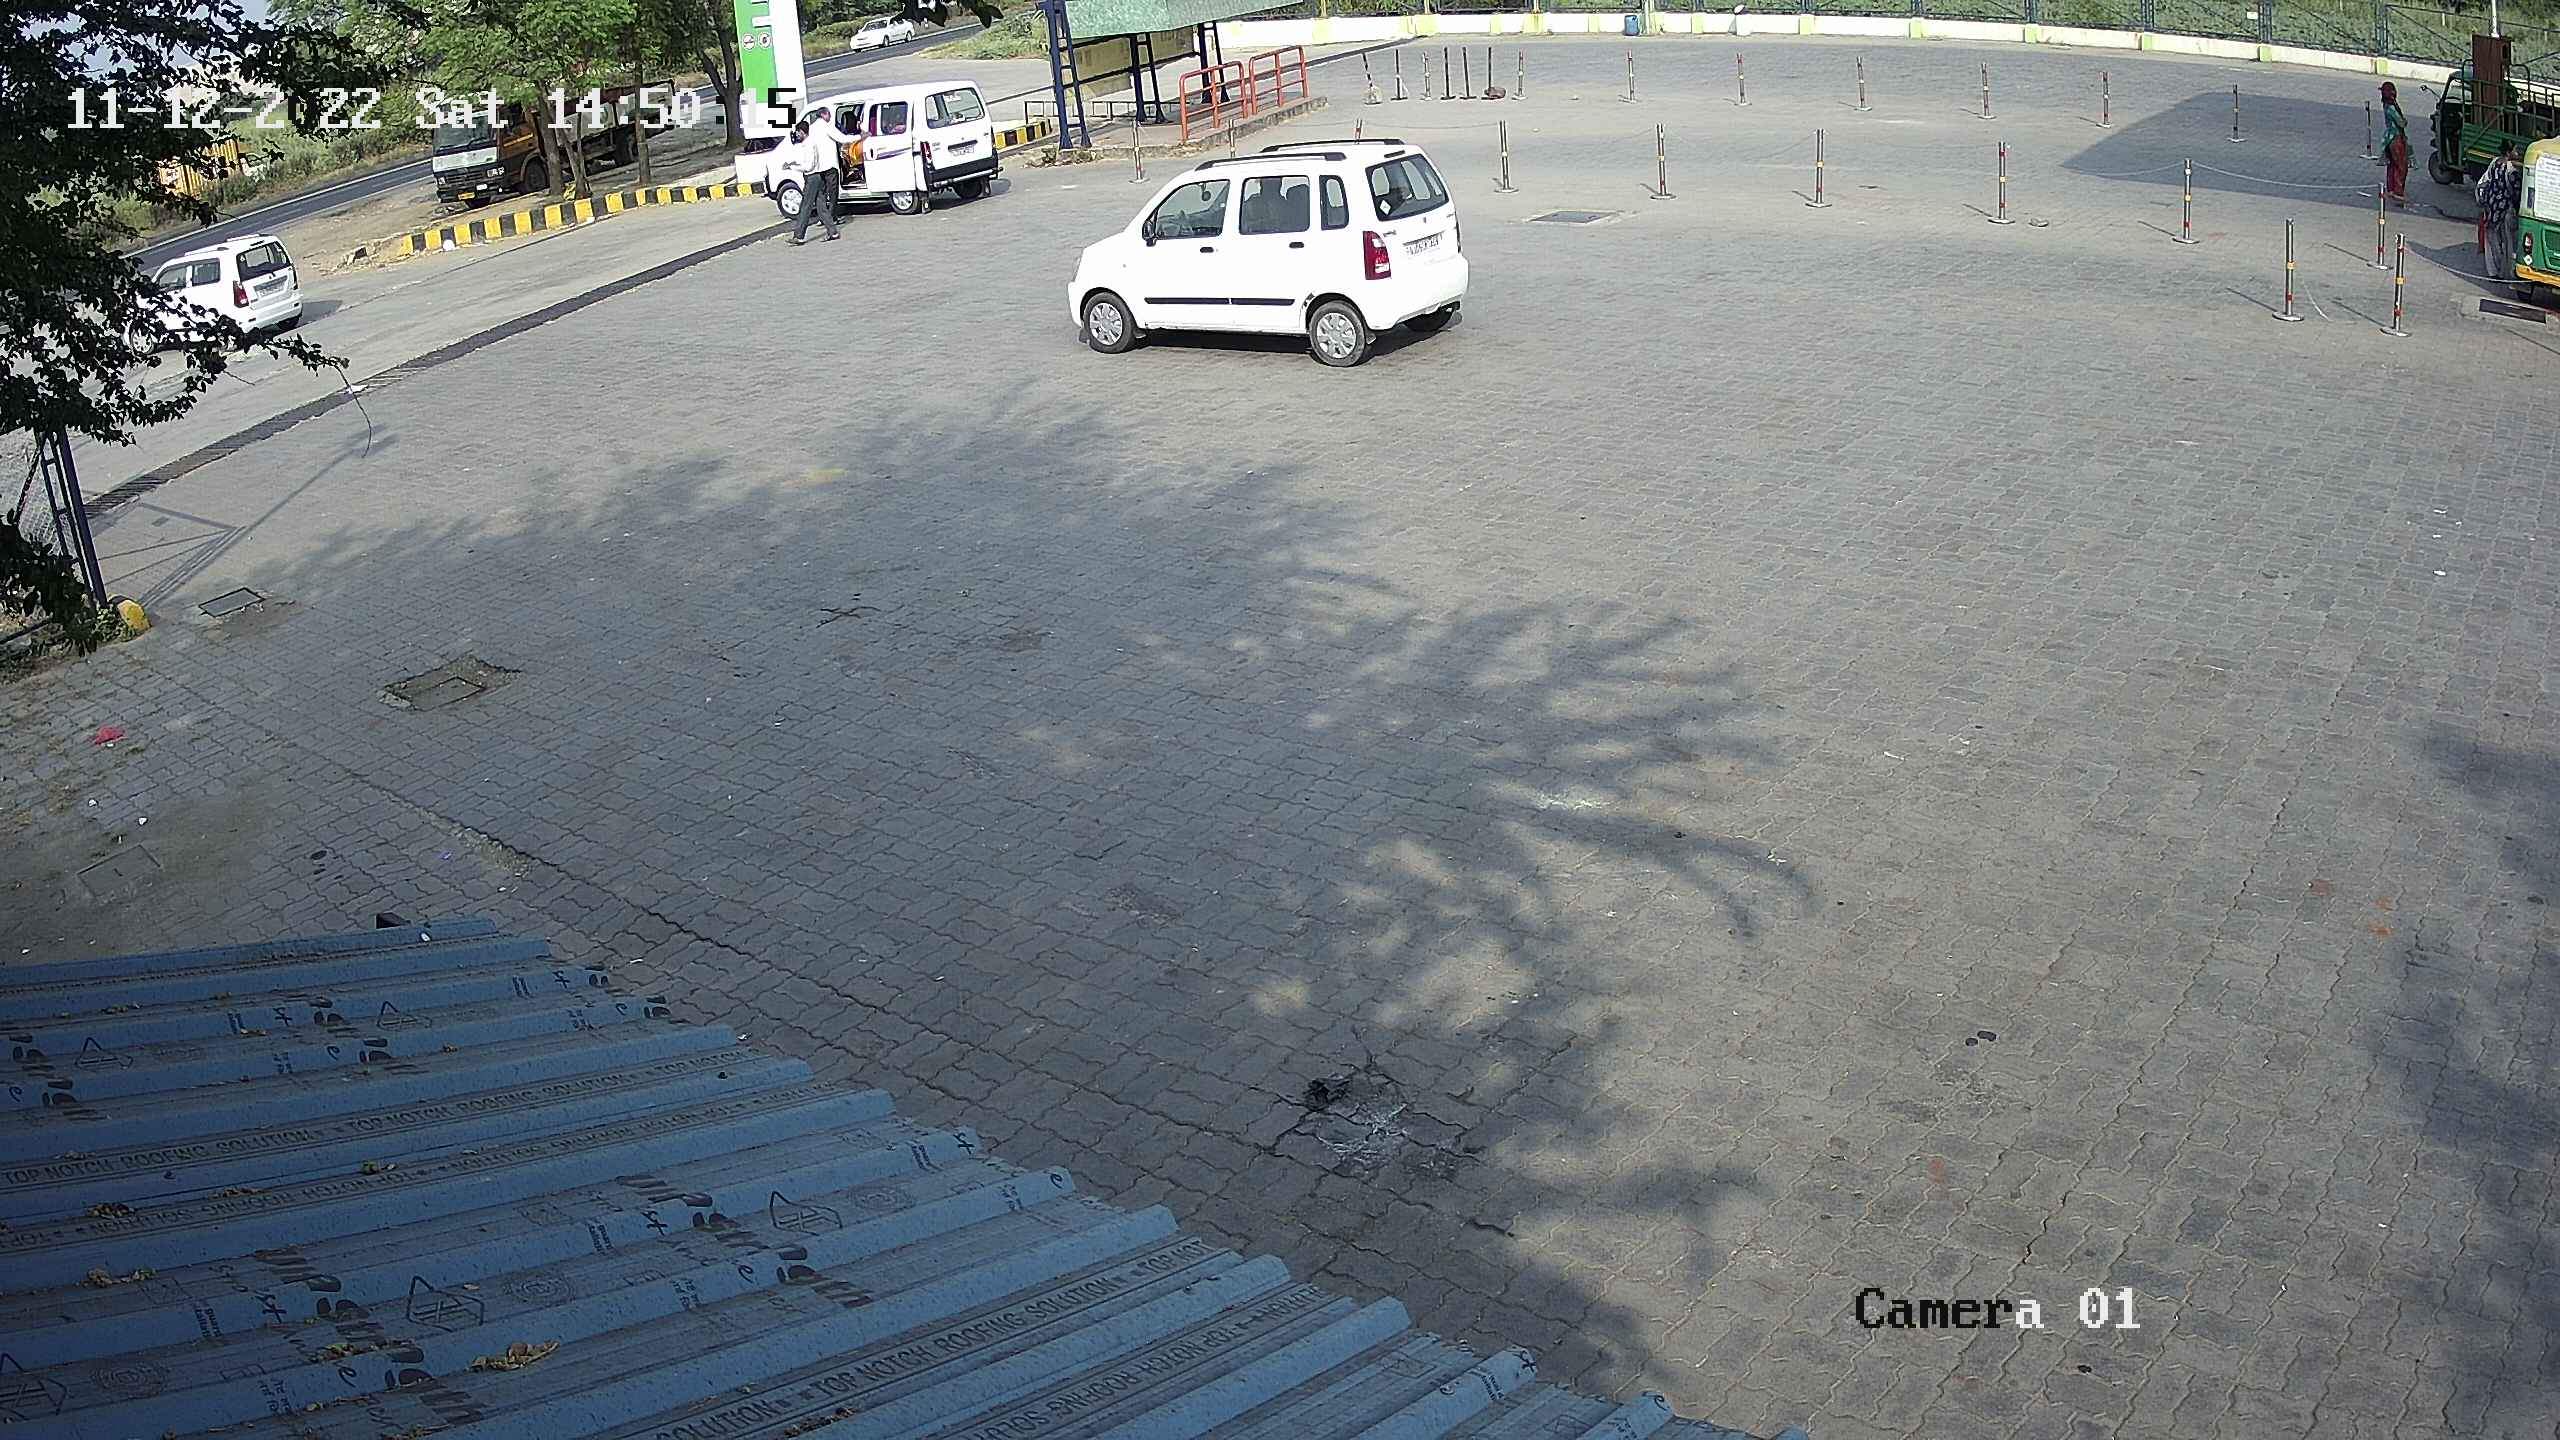Auto: (2425, 12, 2558, 193), (2484, 120, 2556, 322)
Car: (1050, 128, 1484, 371), (751, 76, 1009, 223), (121, 218, 325, 355), (839, 4, 921, 60)
HMV: (418, 67, 556, 227)
